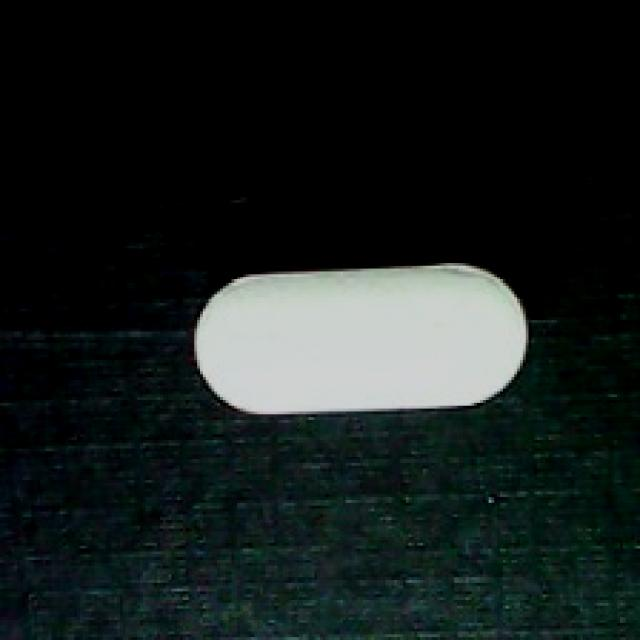no-defect: (189, 249, 531, 417)
